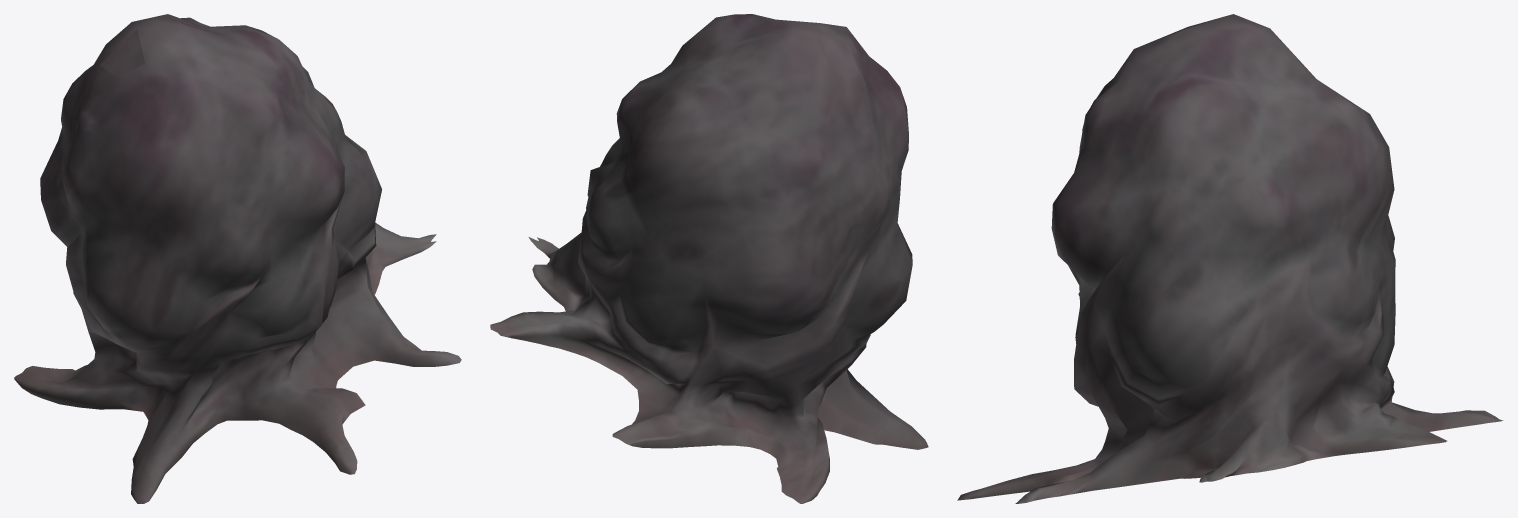
File: Cocoon (3).fbx
3 views of the same model, side by side, from view 1: azimuth 30°, elevation 25°; view 2: azimuth 150°, elevation 25°; view 3: azimuth 270°, elevation 25° (orthographic). The views are drawn at different scales.
Parts seen in each view (by area): view 1: Egg; view 2: Egg; view 3: Egg.
Part boxes in pixels (box(x1,y1,x2,y2)): Egg: box(14, 14, 461, 503); Egg: box(490, 14, 928, 503); Egg: box(957, 14, 1503, 503).
Size of the model in its own units: 1.05 by 1.19 by 1.22.
1 material, 1 textured.
